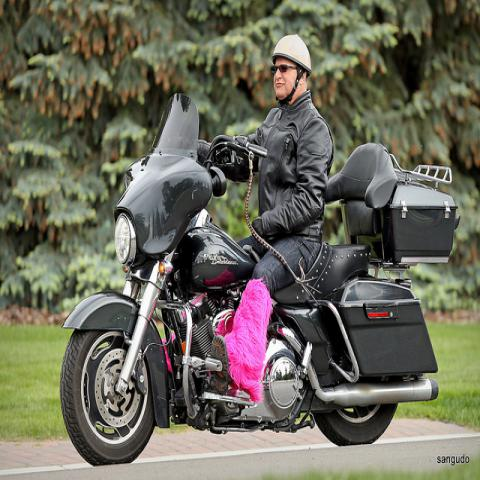motorcycle: (59, 92, 462, 466)
